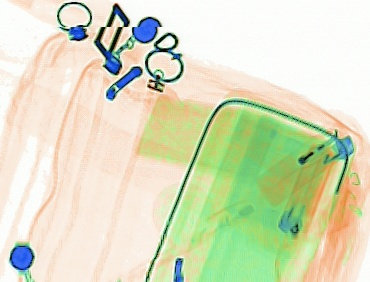lighter: (252, 123, 355, 206), (276, 142, 336, 239)
